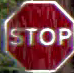Stop: (4, 1, 73, 72)
